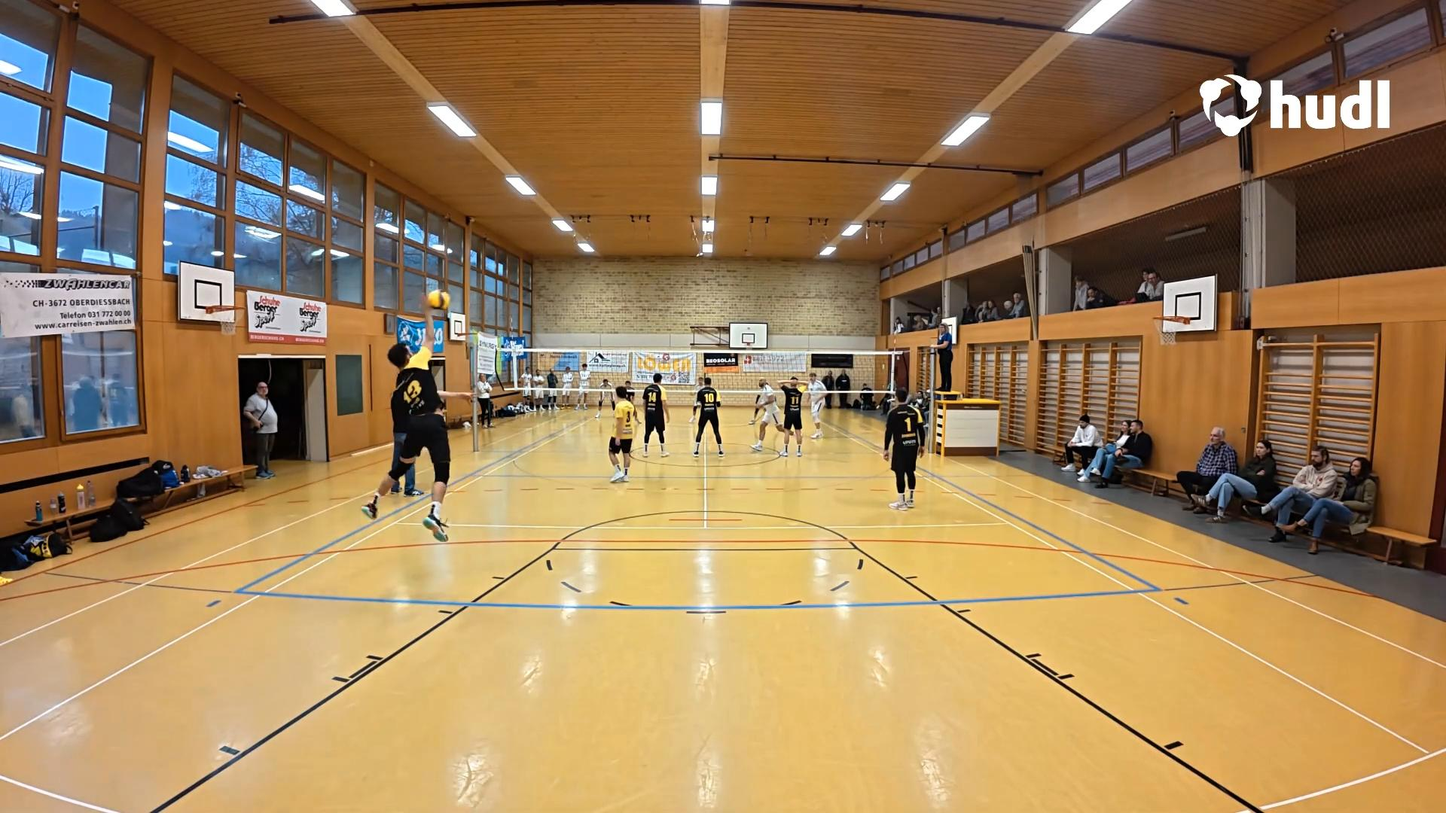battuta: (364, 286, 459, 548)
